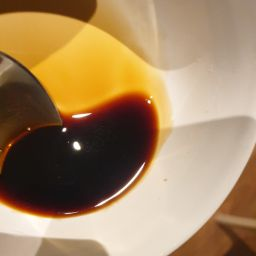Soy Sauce: (7, 82, 160, 208), (47, 135, 121, 195)
